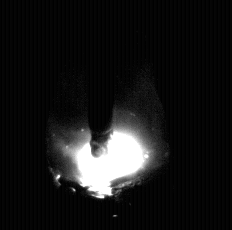arame: (89, 0, 113, 157)
poca: (53, 0, 166, 230)
